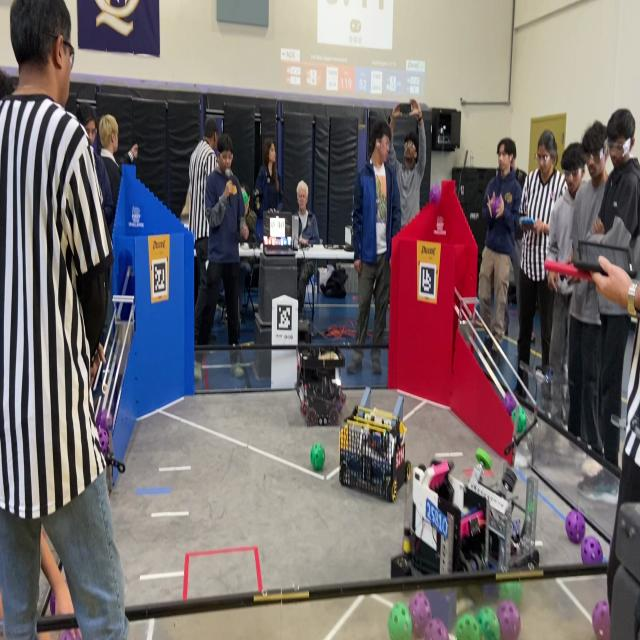artifact_green: (388, 603, 412, 639), (477, 607, 500, 639), (455, 614, 481, 639), (499, 581, 522, 606), (511, 405, 527, 434), (311, 443, 325, 471), (476, 448, 492, 470), (503, 393, 517, 415), (490, 196, 501, 217), (59, 630, 81, 639)
artifact_purple: (409, 592, 431, 637), (497, 601, 520, 639), (592, 600, 610, 640), (566, 510, 585, 543), (581, 536, 602, 564), (424, 618, 448, 639), (96, 409, 111, 430), (503, 393, 516, 415), (98, 428, 108, 455), (96, 409, 107, 429), (430, 184, 441, 204), (491, 195, 500, 217), (59, 630, 81, 639), (50, 590, 55, 615), (50, 591, 55, 615), (106, 412, 112, 430)
